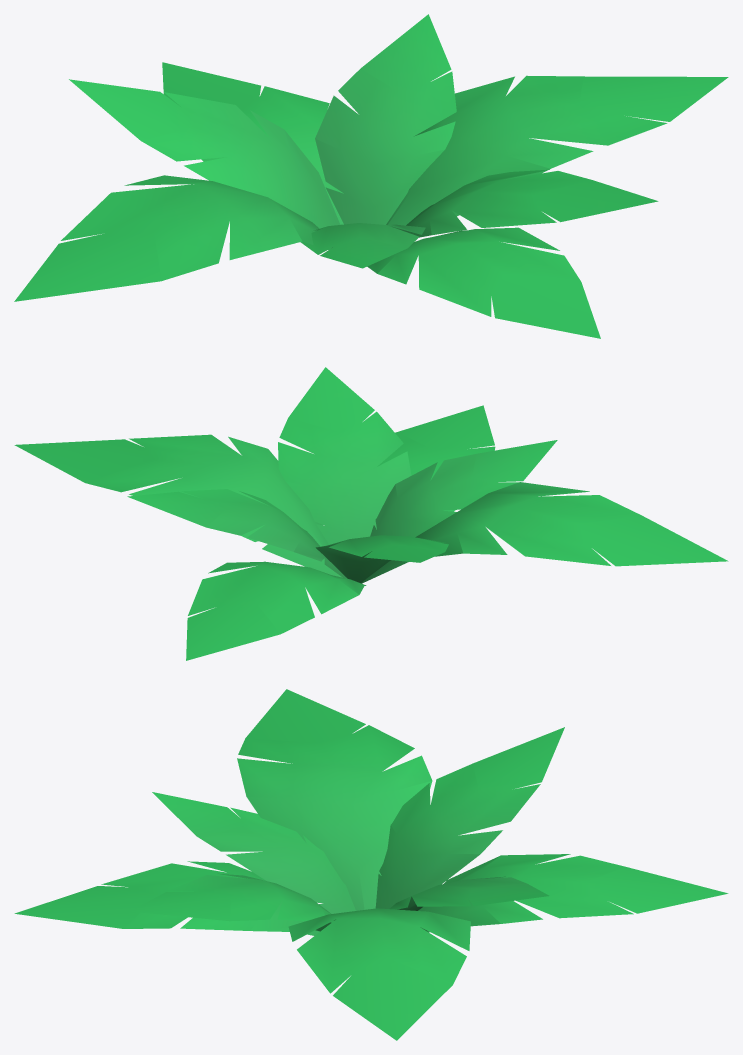
Rendered from Grass_1.fbx.
3 views of the same model, one above another, from view 1: azimuth 30°, elevation 25°; view 2: azimuth 150°, elevation 25°; view 3: azimuth 270°, elevation 25° (orthographic). The views are drawn at different scales.
Parts seen in each view (by area): view 1: Grass_1; view 2: Grass_1; view 3: Grass_1.
Boxes of the visible parts, x1=… form: Grass_1: x1=14, y1=14, x2=728, y2=338; Grass_1: x1=14, y1=367, x2=728, y2=660; Grass_1: x1=14, y1=689, x2=728, y2=1040.
Bounding box in the file's own units: 0.6675 × 0.5863 × 0.1249.
